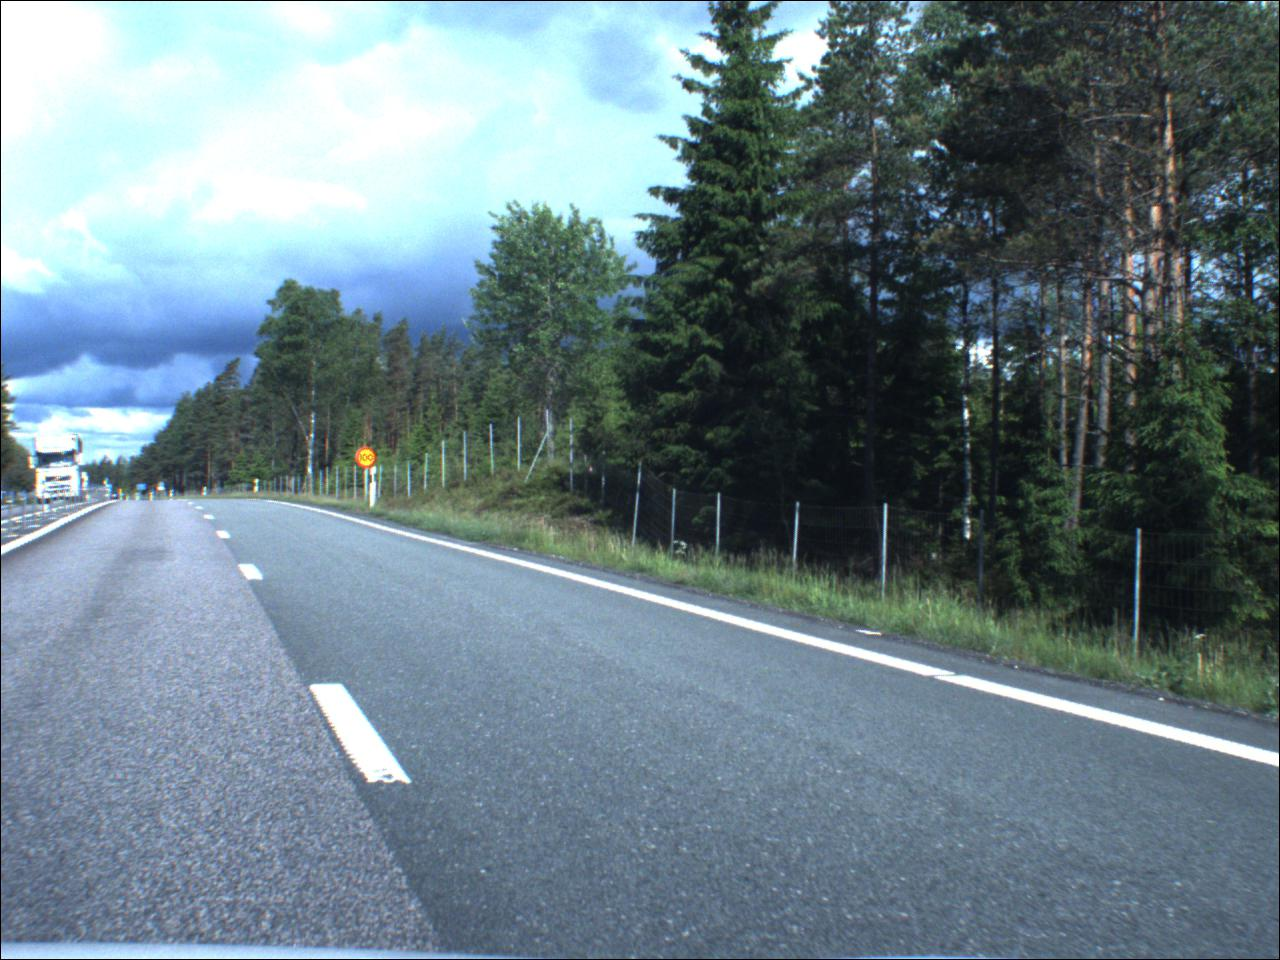100_SIGN: (357, 448, 379, 471)
